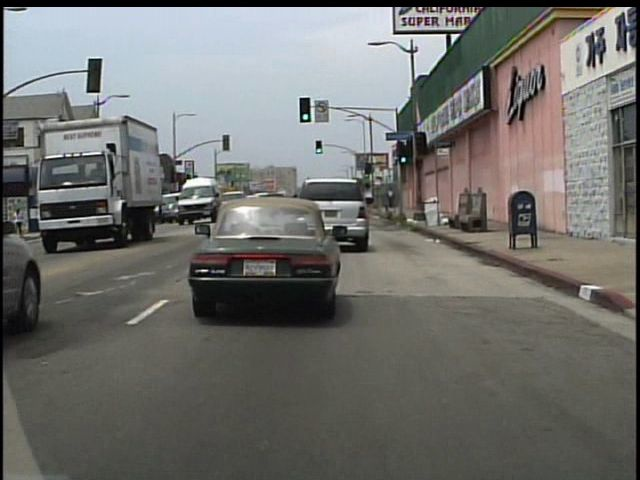person: (15, 208, 26, 238), (388, 186, 398, 208)
